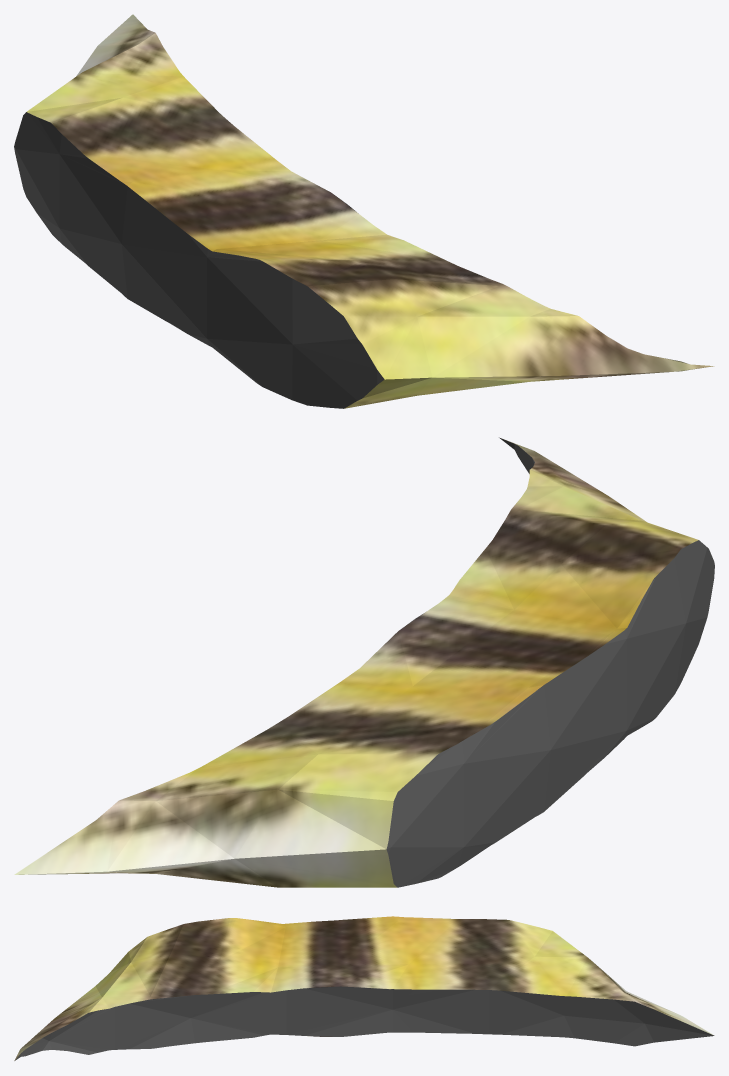
3 renders of one model, top to bottom at view 1: azimuth 30°, elevation 25°; view 2: azimuth 150°, elevation 25°; view 3: azimuth 270°, elevation 25°, orthographic. The views are drawn at different scales.
Visible parts, largest first — view 1: link_14_visual; view 2: link_14_visual; view 3: link_14_visual.
Part boxes in pixels (bbox=[...]): link_14_visual: bbox=[14, 14, 714, 408]; link_14_visual: bbox=[14, 437, 714, 887]; link_14_visual: bbox=[14, 916, 714, 1060].
Size of the model in its own units: 0.00135 by 0.000506 by 0.00369.
Materials: 1 (1 with a texture image).
